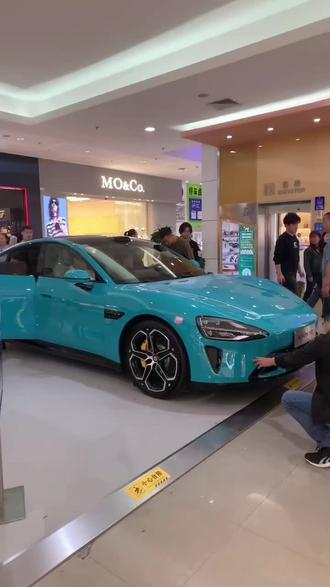su7: (1, 232, 318, 397)
